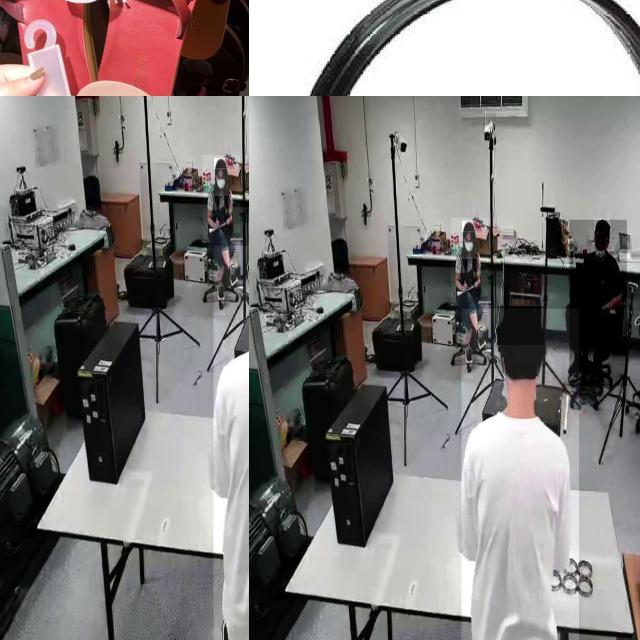Ear-protection: (249, 0, 640, 96)
Sandals: (0, 67, 202, 96)
face_mask: (462, 231, 477, 259), (214, 168, 228, 196)
face_nomask: (595, 229, 607, 251)
hand_noglove: (224, 215, 232, 229), (212, 216, 220, 230), (472, 278, 480, 292), (460, 279, 468, 293)
head_nohelmet: (498, 306, 544, 345), (594, 219, 610, 230), (214, 158, 227, 169), (462, 221, 475, 232)
person: (461, 308, 579, 640), (213, 245, 249, 640), (570, 220, 628, 387), (203, 155, 241, 286), (451, 218, 489, 349)
